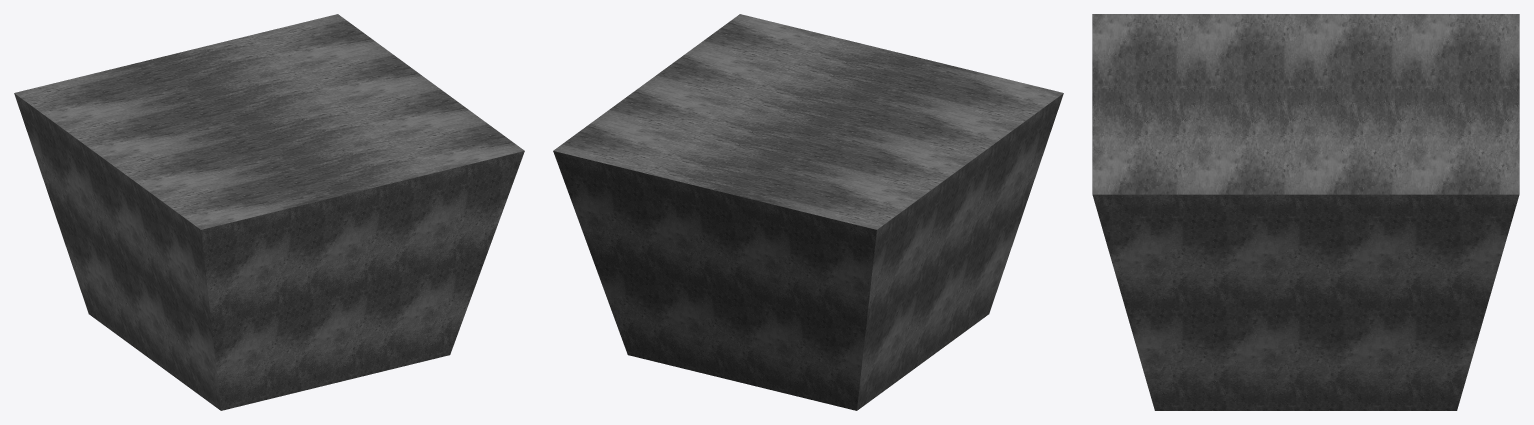
The model's file is Colon_top.glb.
3 renders of one model, left to right at view 1: azimuth 30°, elevation 25°; view 2: azimuth 150°, elevation 25°; view 3: azimuth 270°, elevation 25°, orthographic. The views are drawn at different scales.
Visible parts, largest first — view 1: Cube; view 2: Cube; view 3: Cube.
Part boxes in pixels (x1,y1,x2,y2): Cube: [14, 14, 524, 410]; Cube: [553, 14, 1063, 410]; Cube: [1092, 14, 1519, 410].
Bounding box in the file's own units: 3.7 × 2.32 × 3.7.
Materials: 1 (1 with a texture image).
